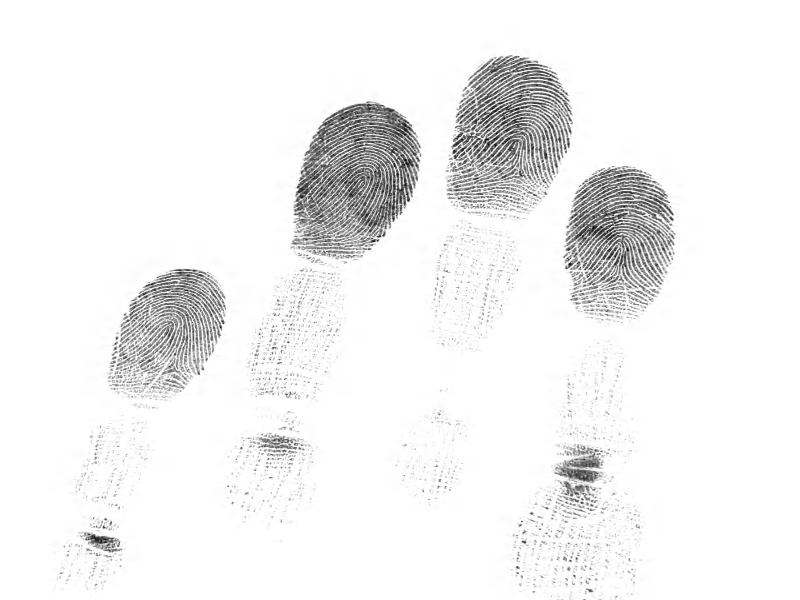distal: (280, 87, 426, 269), (438, 49, 574, 228), (560, 162, 683, 332), (102, 261, 232, 411)
proximal: (241, 257, 364, 425), (418, 212, 521, 389), (61, 410, 180, 552), (548, 334, 680, 458)
